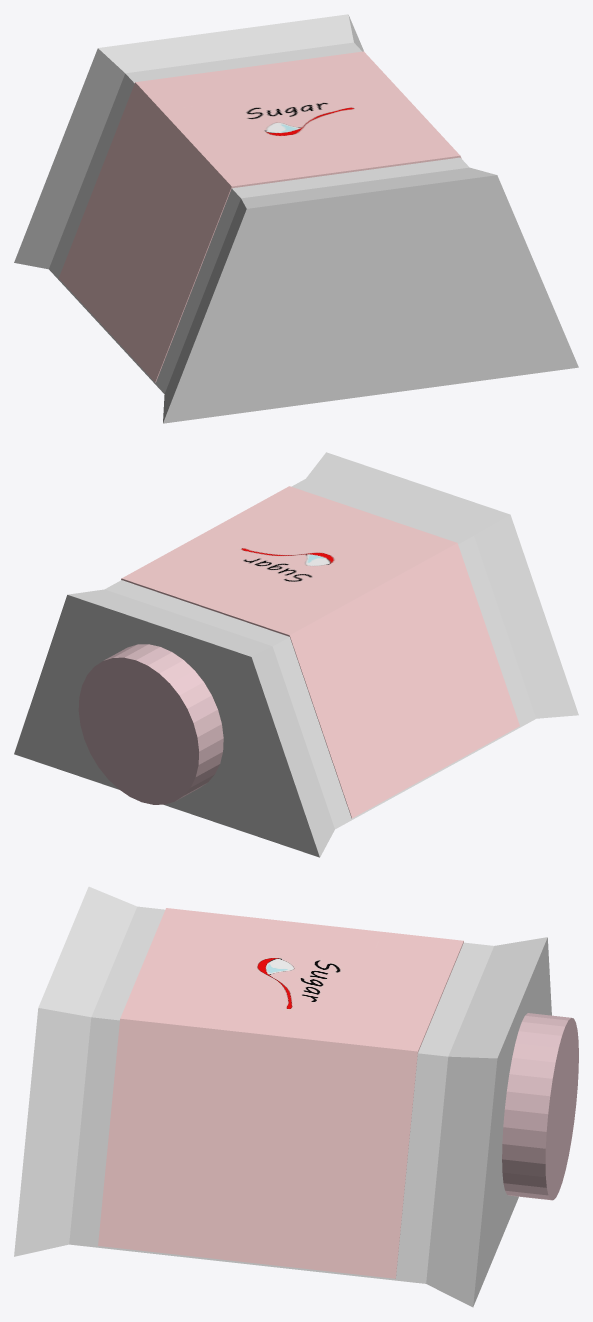
The model's file is boxsugar.gltf.
3 views of the same model, one above another, from view 1: azimuth 30°, elevation 25°; view 2: azimuth 150°, elevation 25°; view 3: azimuth 270°, elevation 25° (orthographic). The views are drawn at different scales.
Visible parts, largest first — view 1: Bote, Etiqueta; view 2: Etiqueta, Bote, Tapon; view 3: Etiqueta, Bote, Tapon.
Part boxes in pixels (bbox=[...]): Bote: bbox=[14, 14, 578, 423]; Etiqueta: bbox=[59, 51, 461, 382]; Etiqueta: bbox=[121, 486, 519, 818]; Bote: bbox=[14, 452, 578, 857]; Tapon: bbox=[78, 644, 223, 804]; Etiqueta: bbox=[98, 908, 463, 1278]; Bote: bbox=[14, 886, 551, 1307]; Tapon: bbox=[502, 1013, 578, 1200].
Size of the model in its own units: 1.3 by 0.6151 by 1.35.
Materials: 3 (1 with a texture image).
